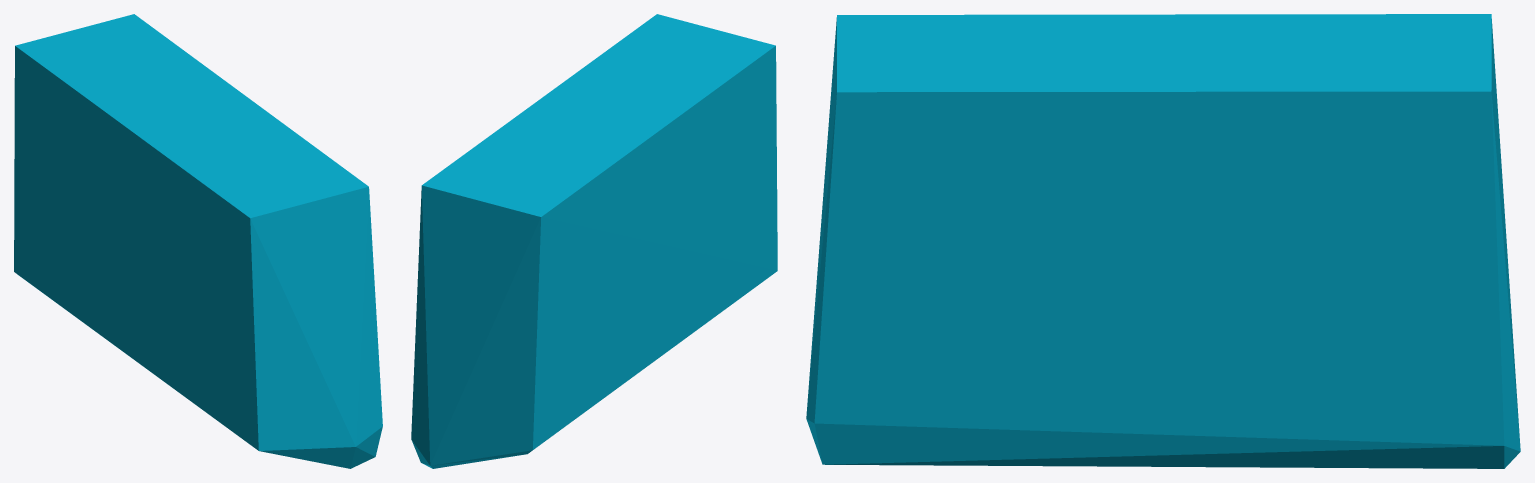
Rendered from pent_convex_piece_003.obj.
3 renders of one model, left to right at view 1: azimuth 30°, elevation 25°; view 2: azimuth 150°, elevation 25°; view 3: azimuth 270°, elevation 25°, orthographic. The views are drawn at different scales.
Bounding box in the file's own units: 0.0159 × 0.0332 × 0.0565.
